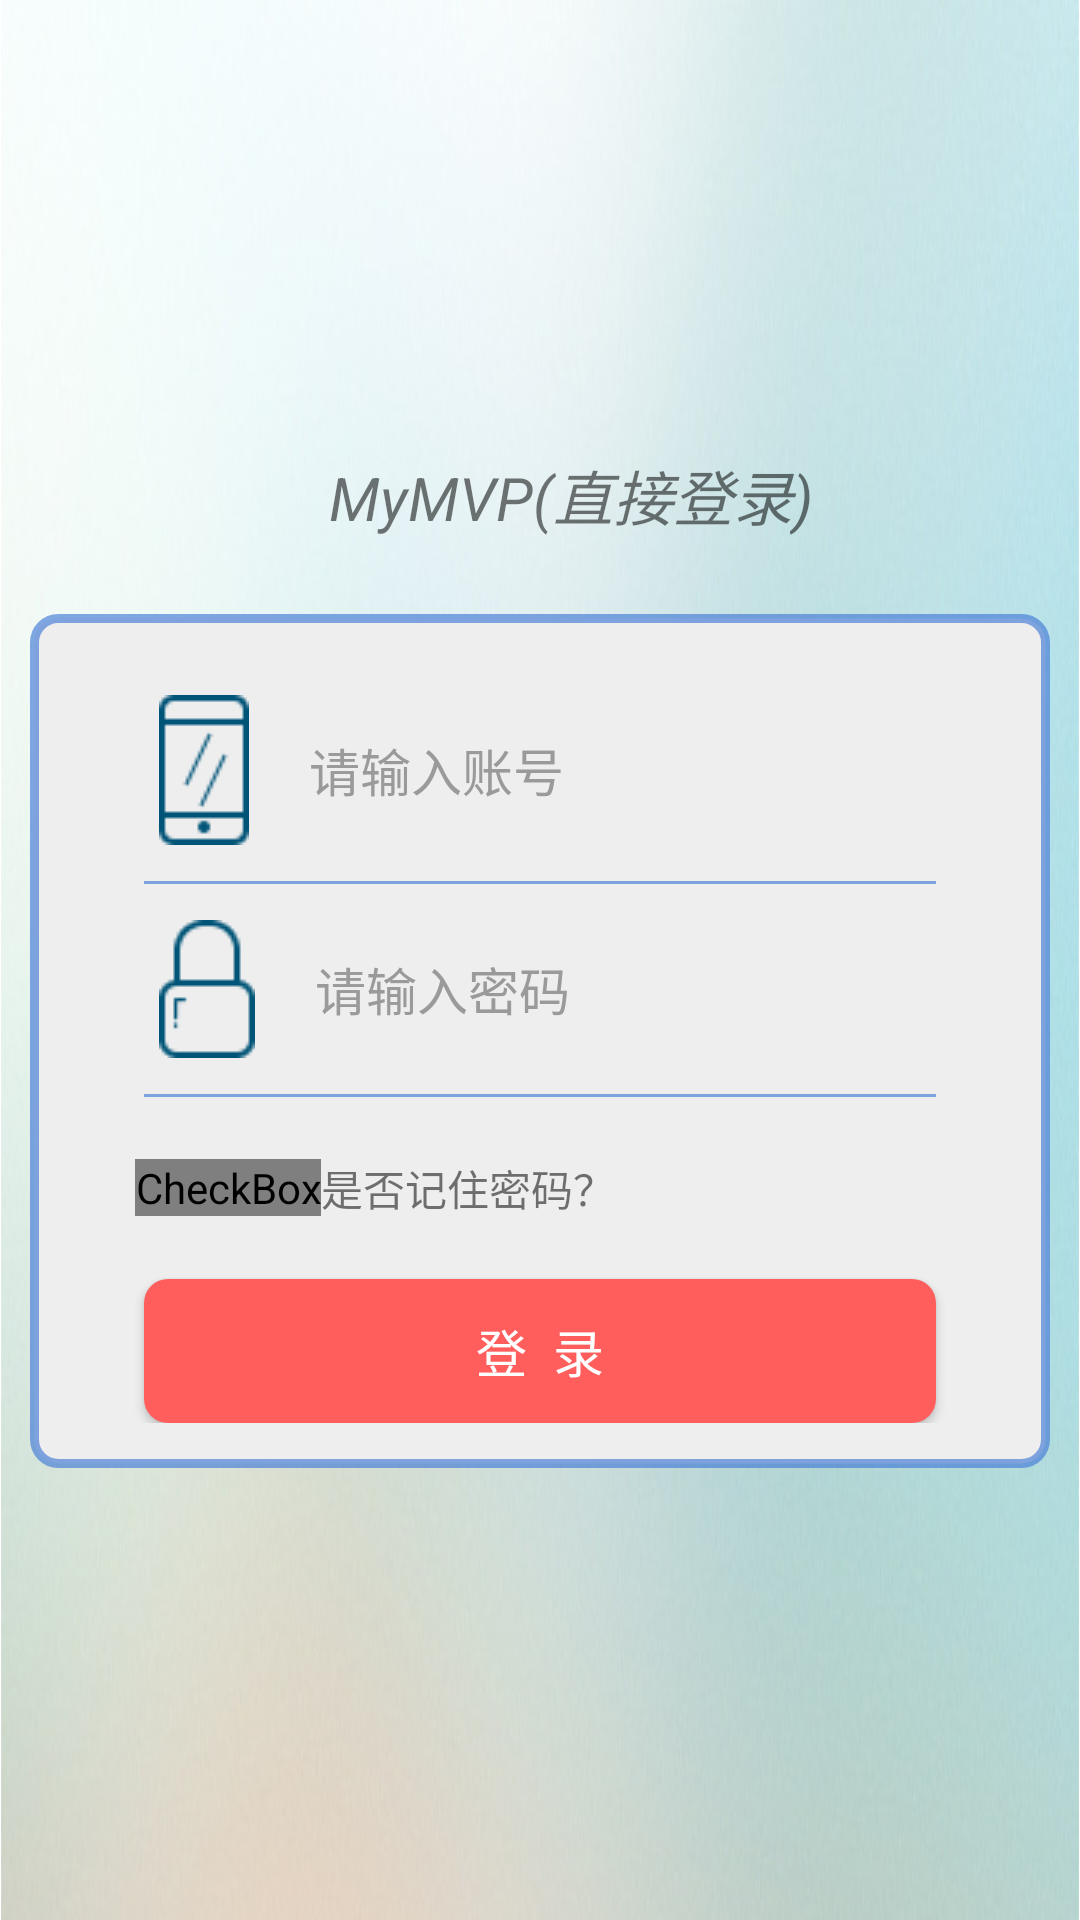

Screen size 1080 × 1920. Icon name, then its center in pixels as point (x, y):
login password: point (207, 989)
login phone: point (204, 770)
